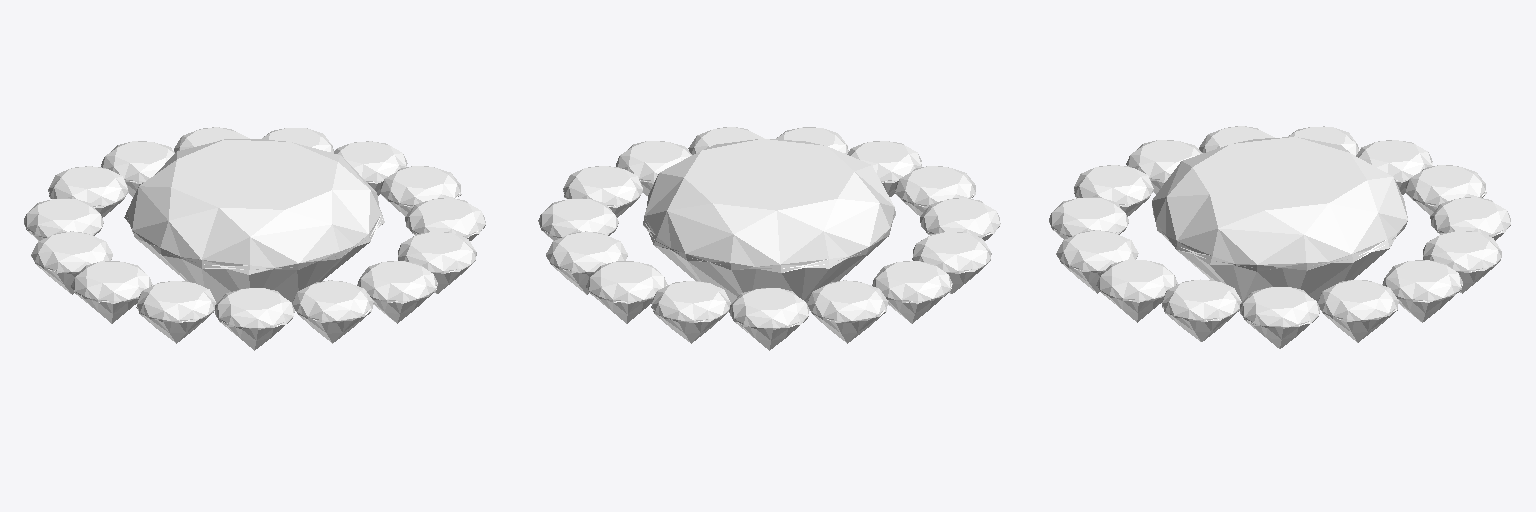
Rendered from DiamondsOnly.obj.
The picture shows the model from 3 angles: view 1: azimuth 30°, elevation 25°; view 2: azimuth 150°, elevation 25°; view 3: azimuth 270°, elevation 25°; orthographic projection.
Parts seen in each view (by area): view 1: Diamond_Smalls_Cube.004, Diamond_Main_Cube.002; view 2: Diamond_Smalls_Cube.004, Diamond_Main_Cube.002; view 3: Diamond_Smalls_Cube.004, Diamond_Main_Cube.002.
Part boxes in pixels (x1,y1,x2,y2): Diamond_Smalls_Cube.004: (24,127,485,350); Diamond_Main_Cube.002: (124,139,384,303); Diamond_Smalls_Cube.004: (538,127,1000,350); Diamond_Main_Cube.002: (643,139,895,303); Diamond_Smalls_Cube.004: (1049,126,1510,348); Diamond_Main_Cube.002: (1152,137,1407,302).
Size of the model in its own units: 3.53 by 1.38 by 3.55.